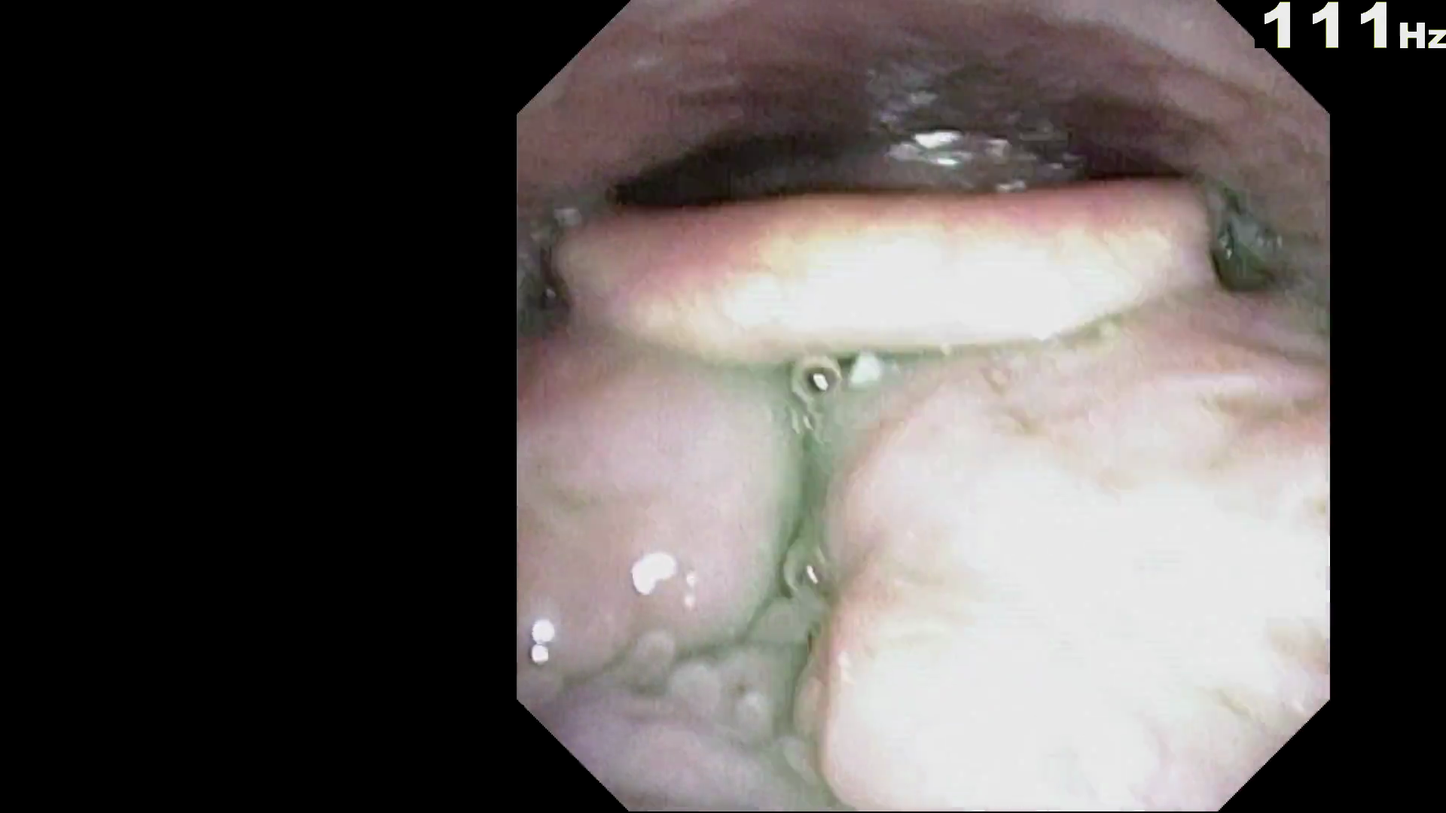epiglottis: (557, 189, 1242, 385)
trachea: (892, 326, 1034, 483)
